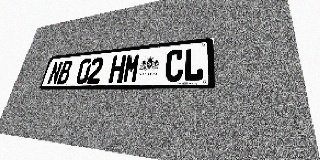0: (75, 58, 93, 84)
2: (86, 57, 105, 84)
B: (56, 60, 74, 84)
C: (164, 49, 184, 82)
H: (108, 55, 127, 83)
L: (183, 47, 204, 81)
M: (122, 53, 141, 83)
N: (47, 61, 64, 85)
